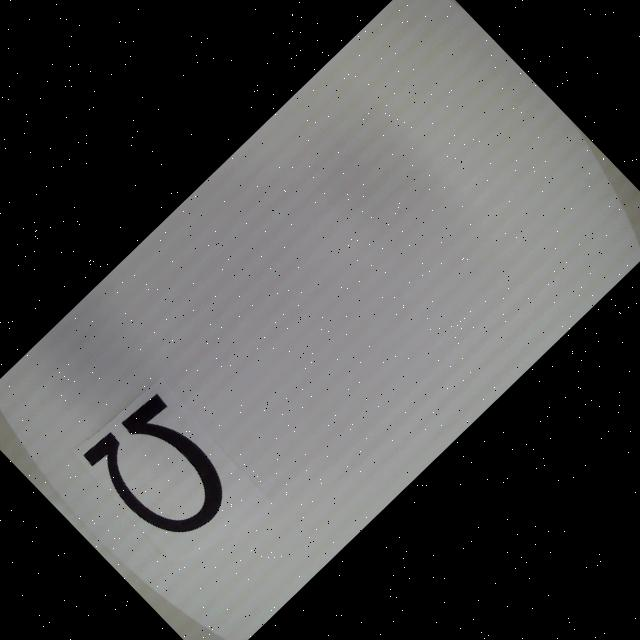OMEGA: (80, 386, 248, 554)
